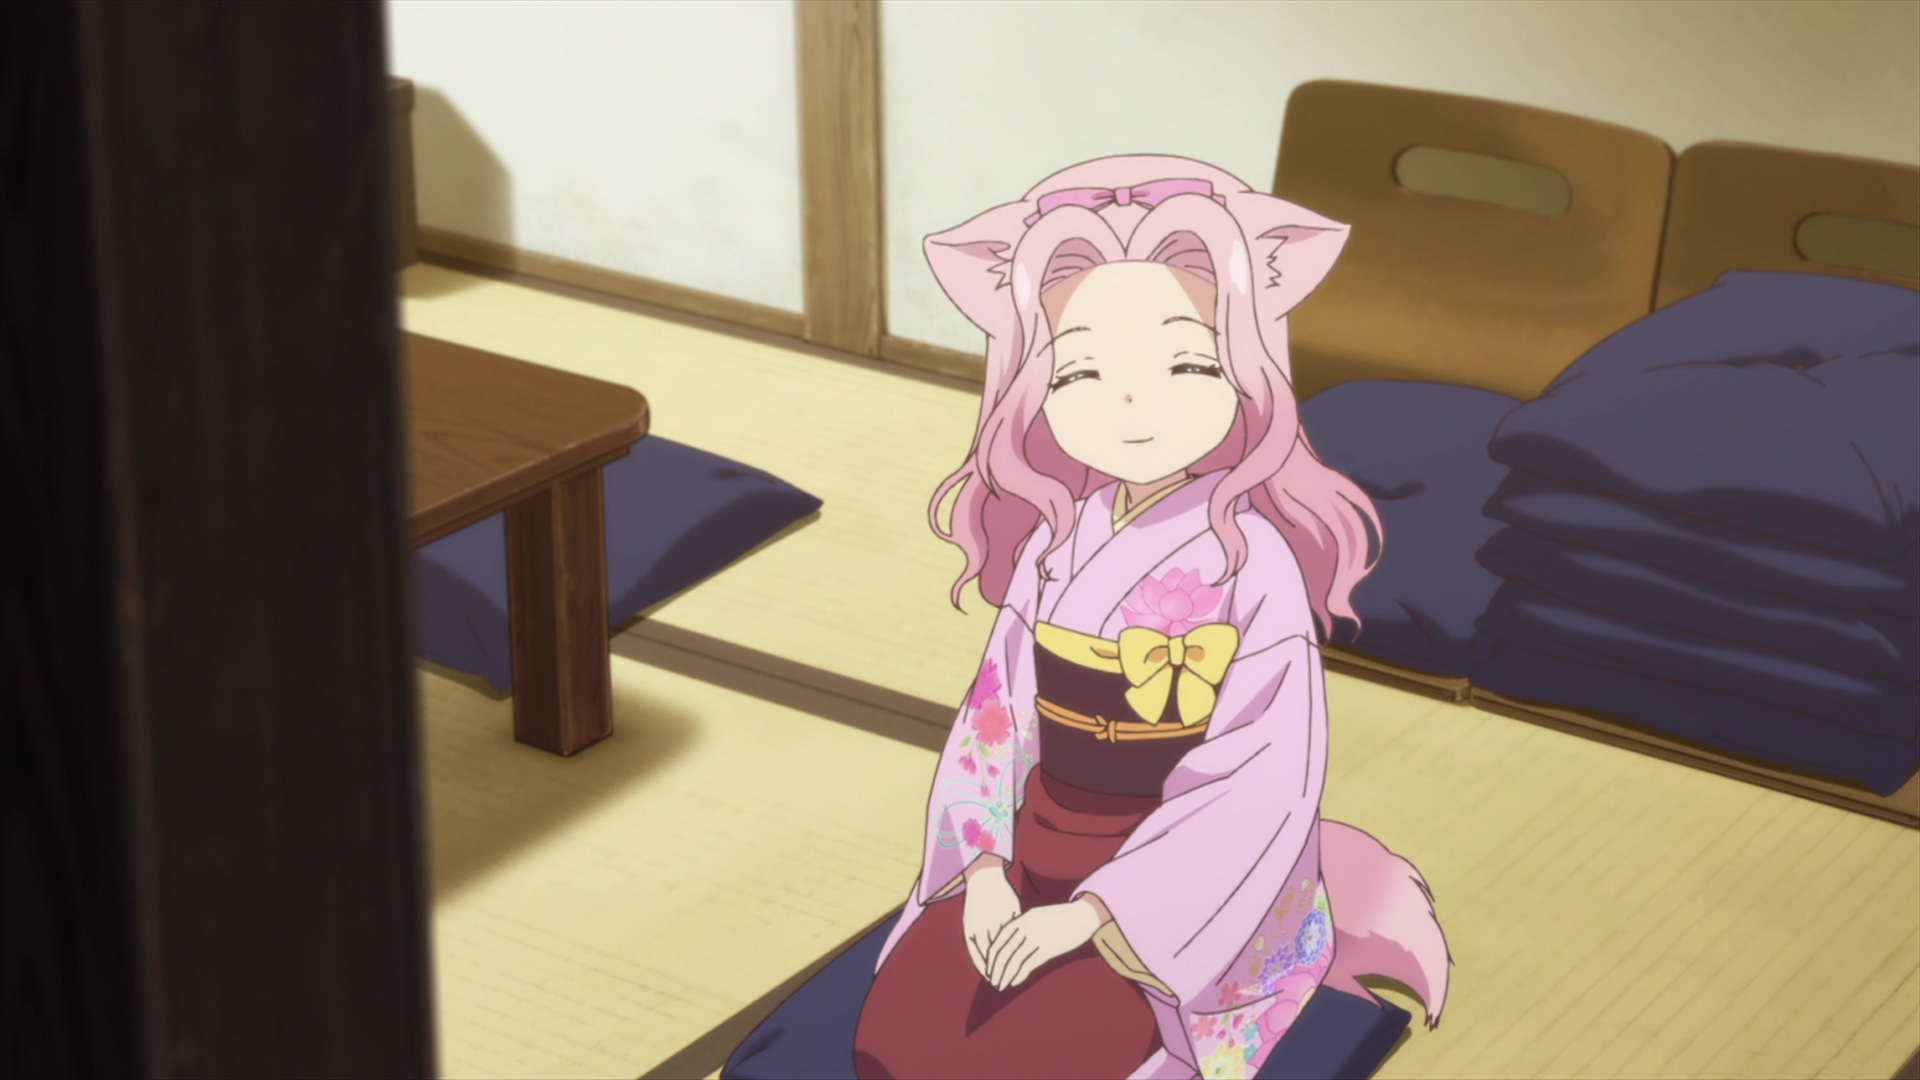莲: (849, 153, 1452, 1080)
